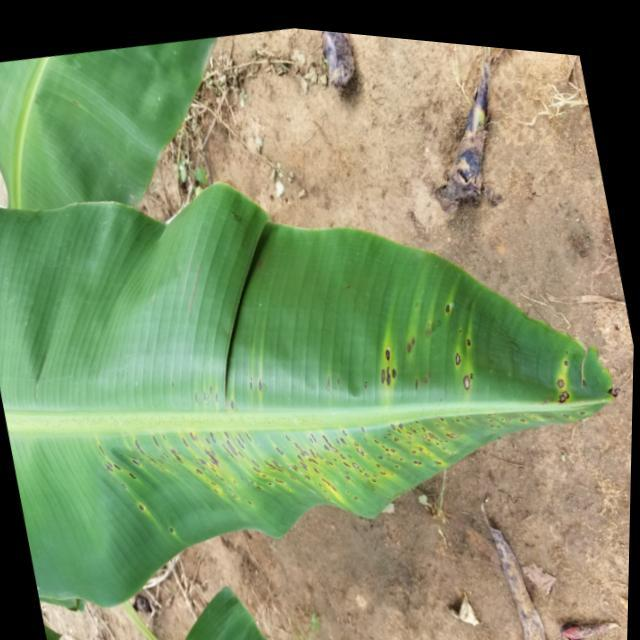Early_rust: (86, 404, 597, 565), (361, 268, 620, 408)
